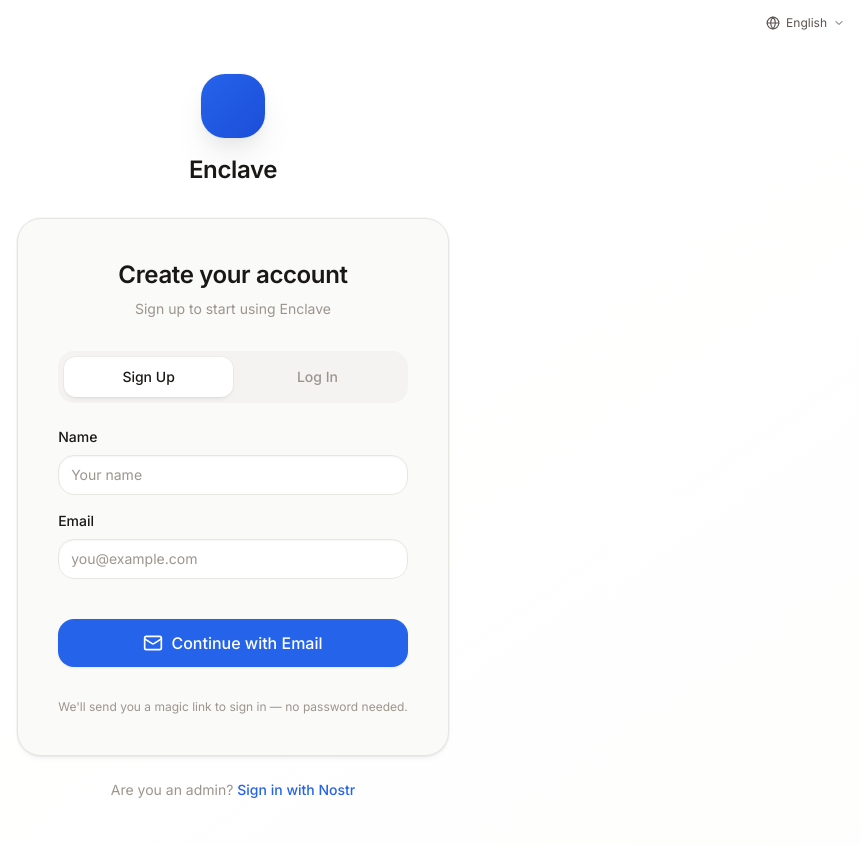
it: UserAuth › contains and names magic link request failures
Type "Ada" into the field labelled "Name" at (233, 475), box [71,465,395,485]
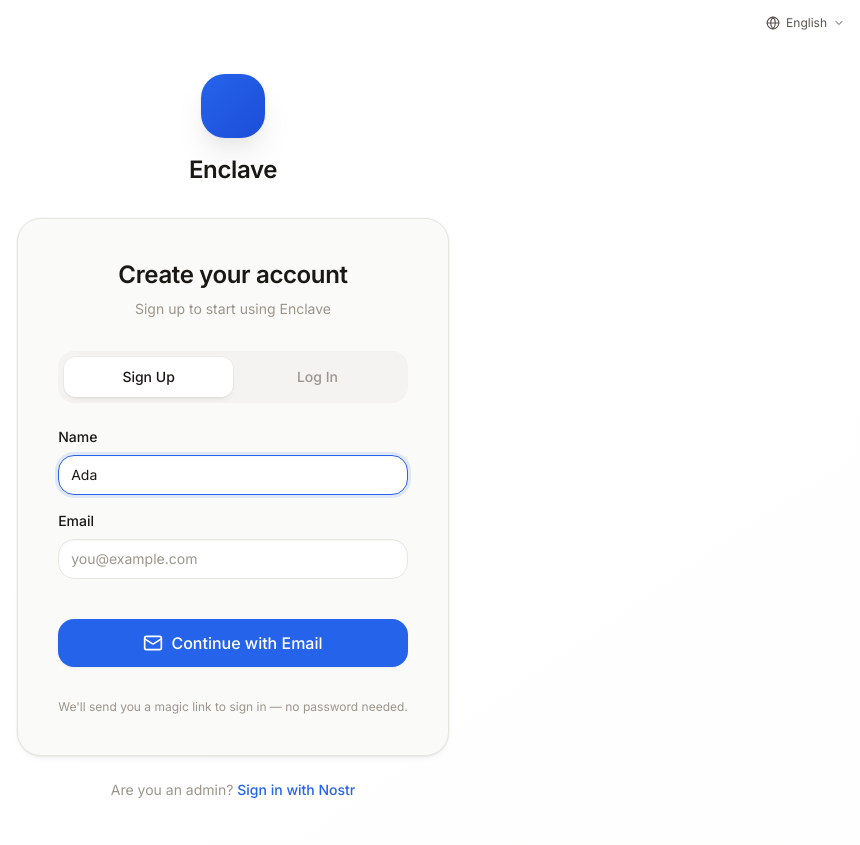
Type "ada@example.com" into the field labelled "Email" at (233, 559), box [71,549,395,569]
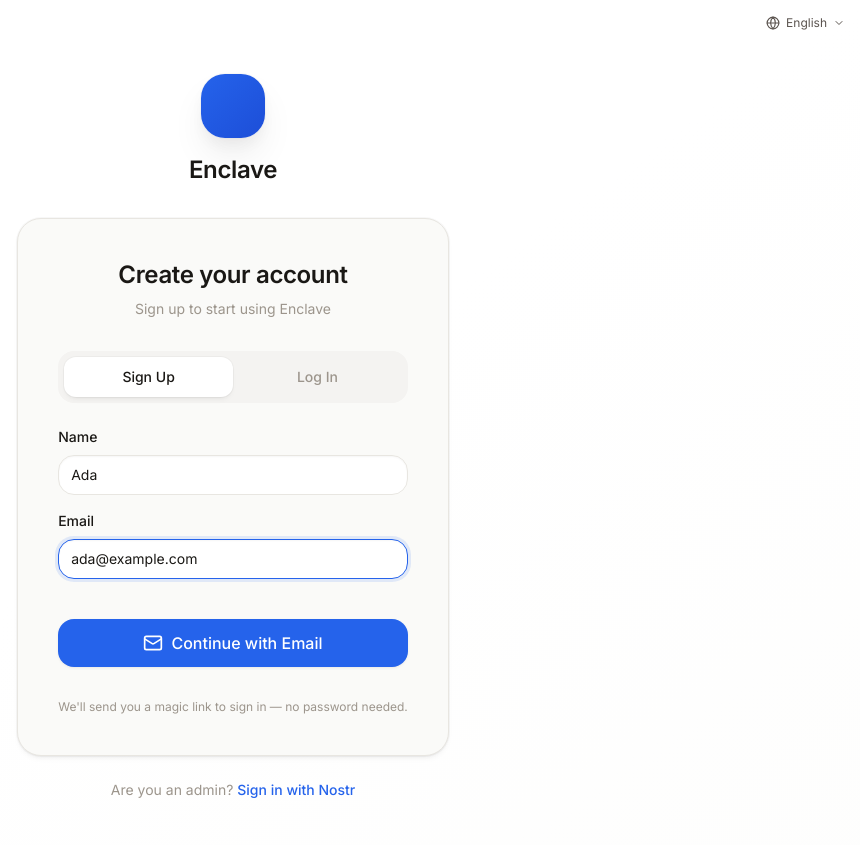
Click the button "Continue with Email" at (233, 643), box [58,619,408,667]
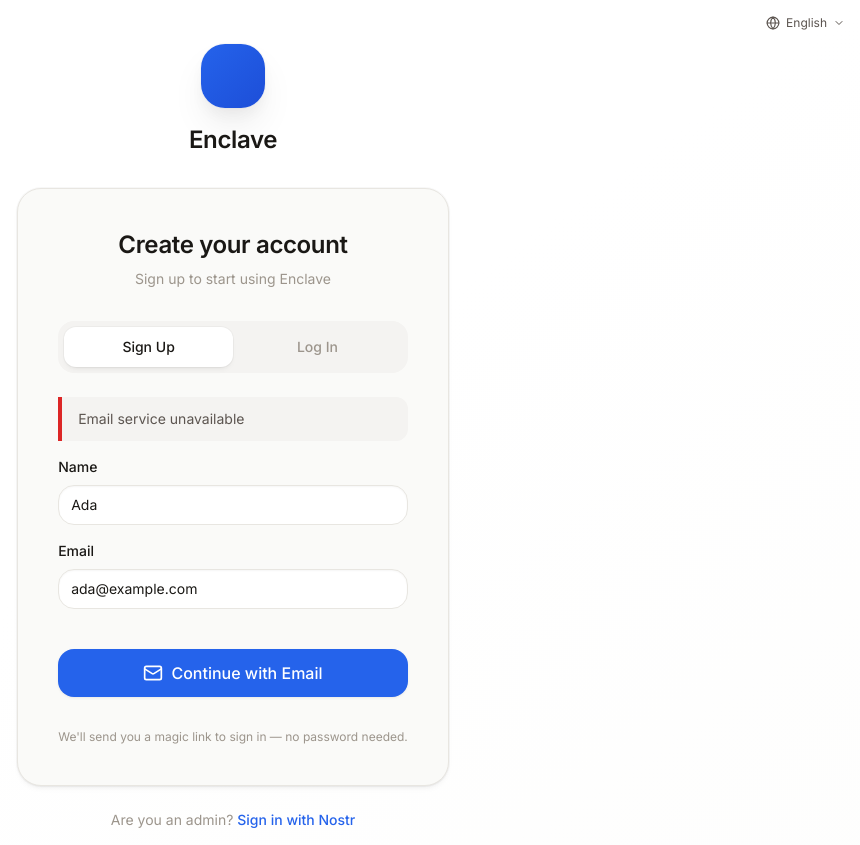
Expected: the button "Continue with Email" is enabled, [58,649,408,697]
Now the text named "Magic link request error" reads "Email service unavailable", box [78,410,244,427]
